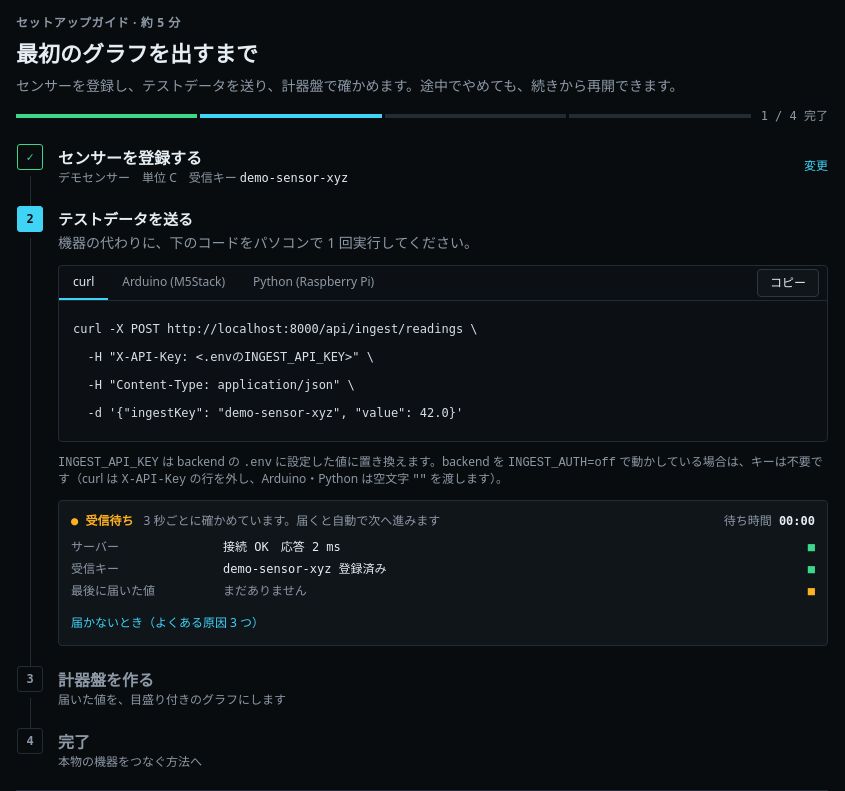
Test case: SetupWizard › 受信待ちの表に、サーバーへの接続・受信キー・最後に届いた値（まだ無い）を出す
expect the text "接続 OK 応答 2 ms" is shown: met, box [223, 540, 341, 554]
expect the text "demo-sensor-xyz 登録済み" is shown: met, box [223, 562, 387, 576]
届かないときの原因は、押すと開く
Click the button "届かないとき（よくある原因 3 つ）": (168, 622) [71, 614, 264, 630]
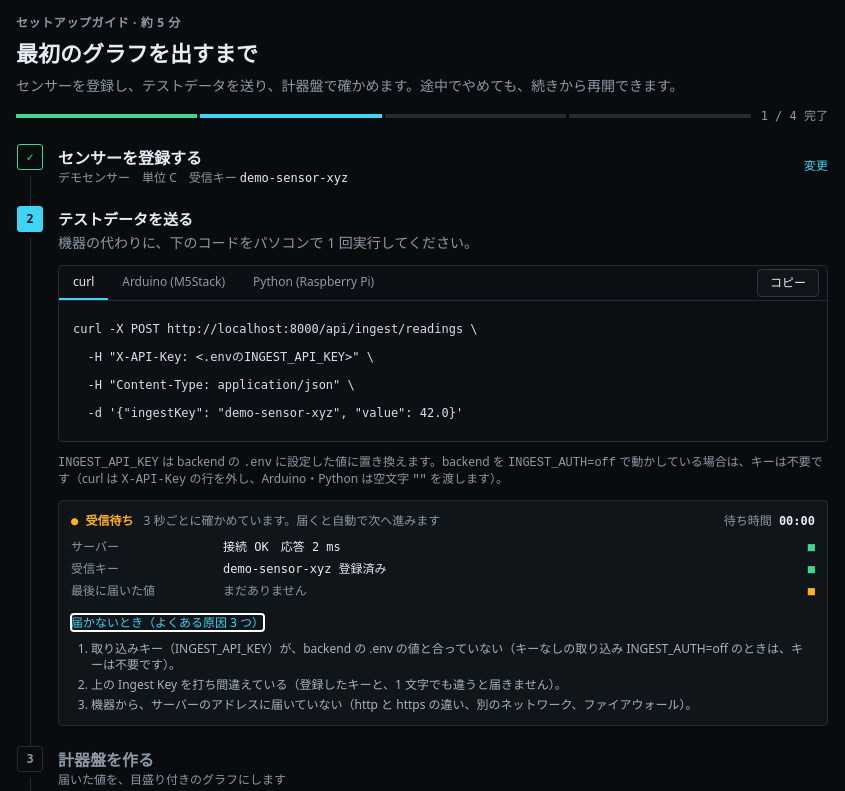
expect the list item "INGEST_API_KEY）が、backend の .env" is shown: met, box [91, 640, 803, 672]
